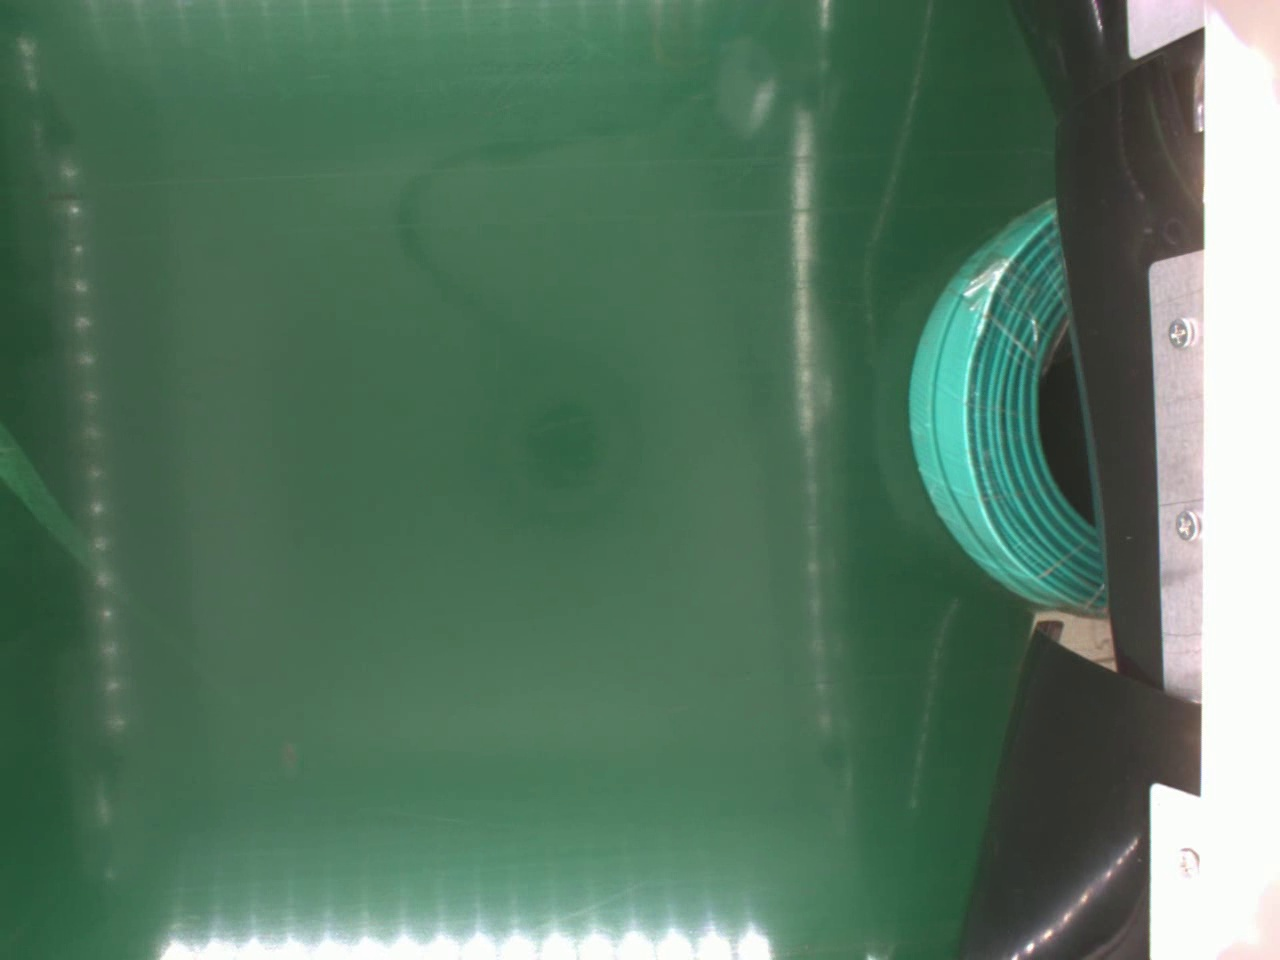green: (906, 192, 1105, 625)
